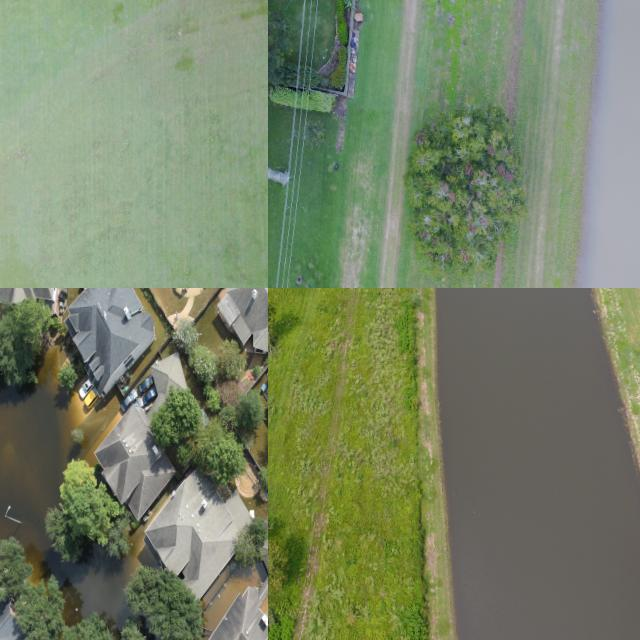fire: (437, 288, 640, 640), (0, 346, 144, 631)
